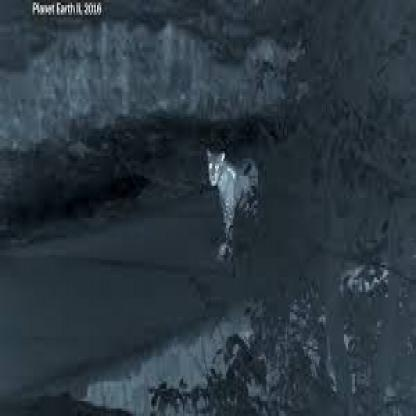rehkitze: (201, 143, 263, 260)
